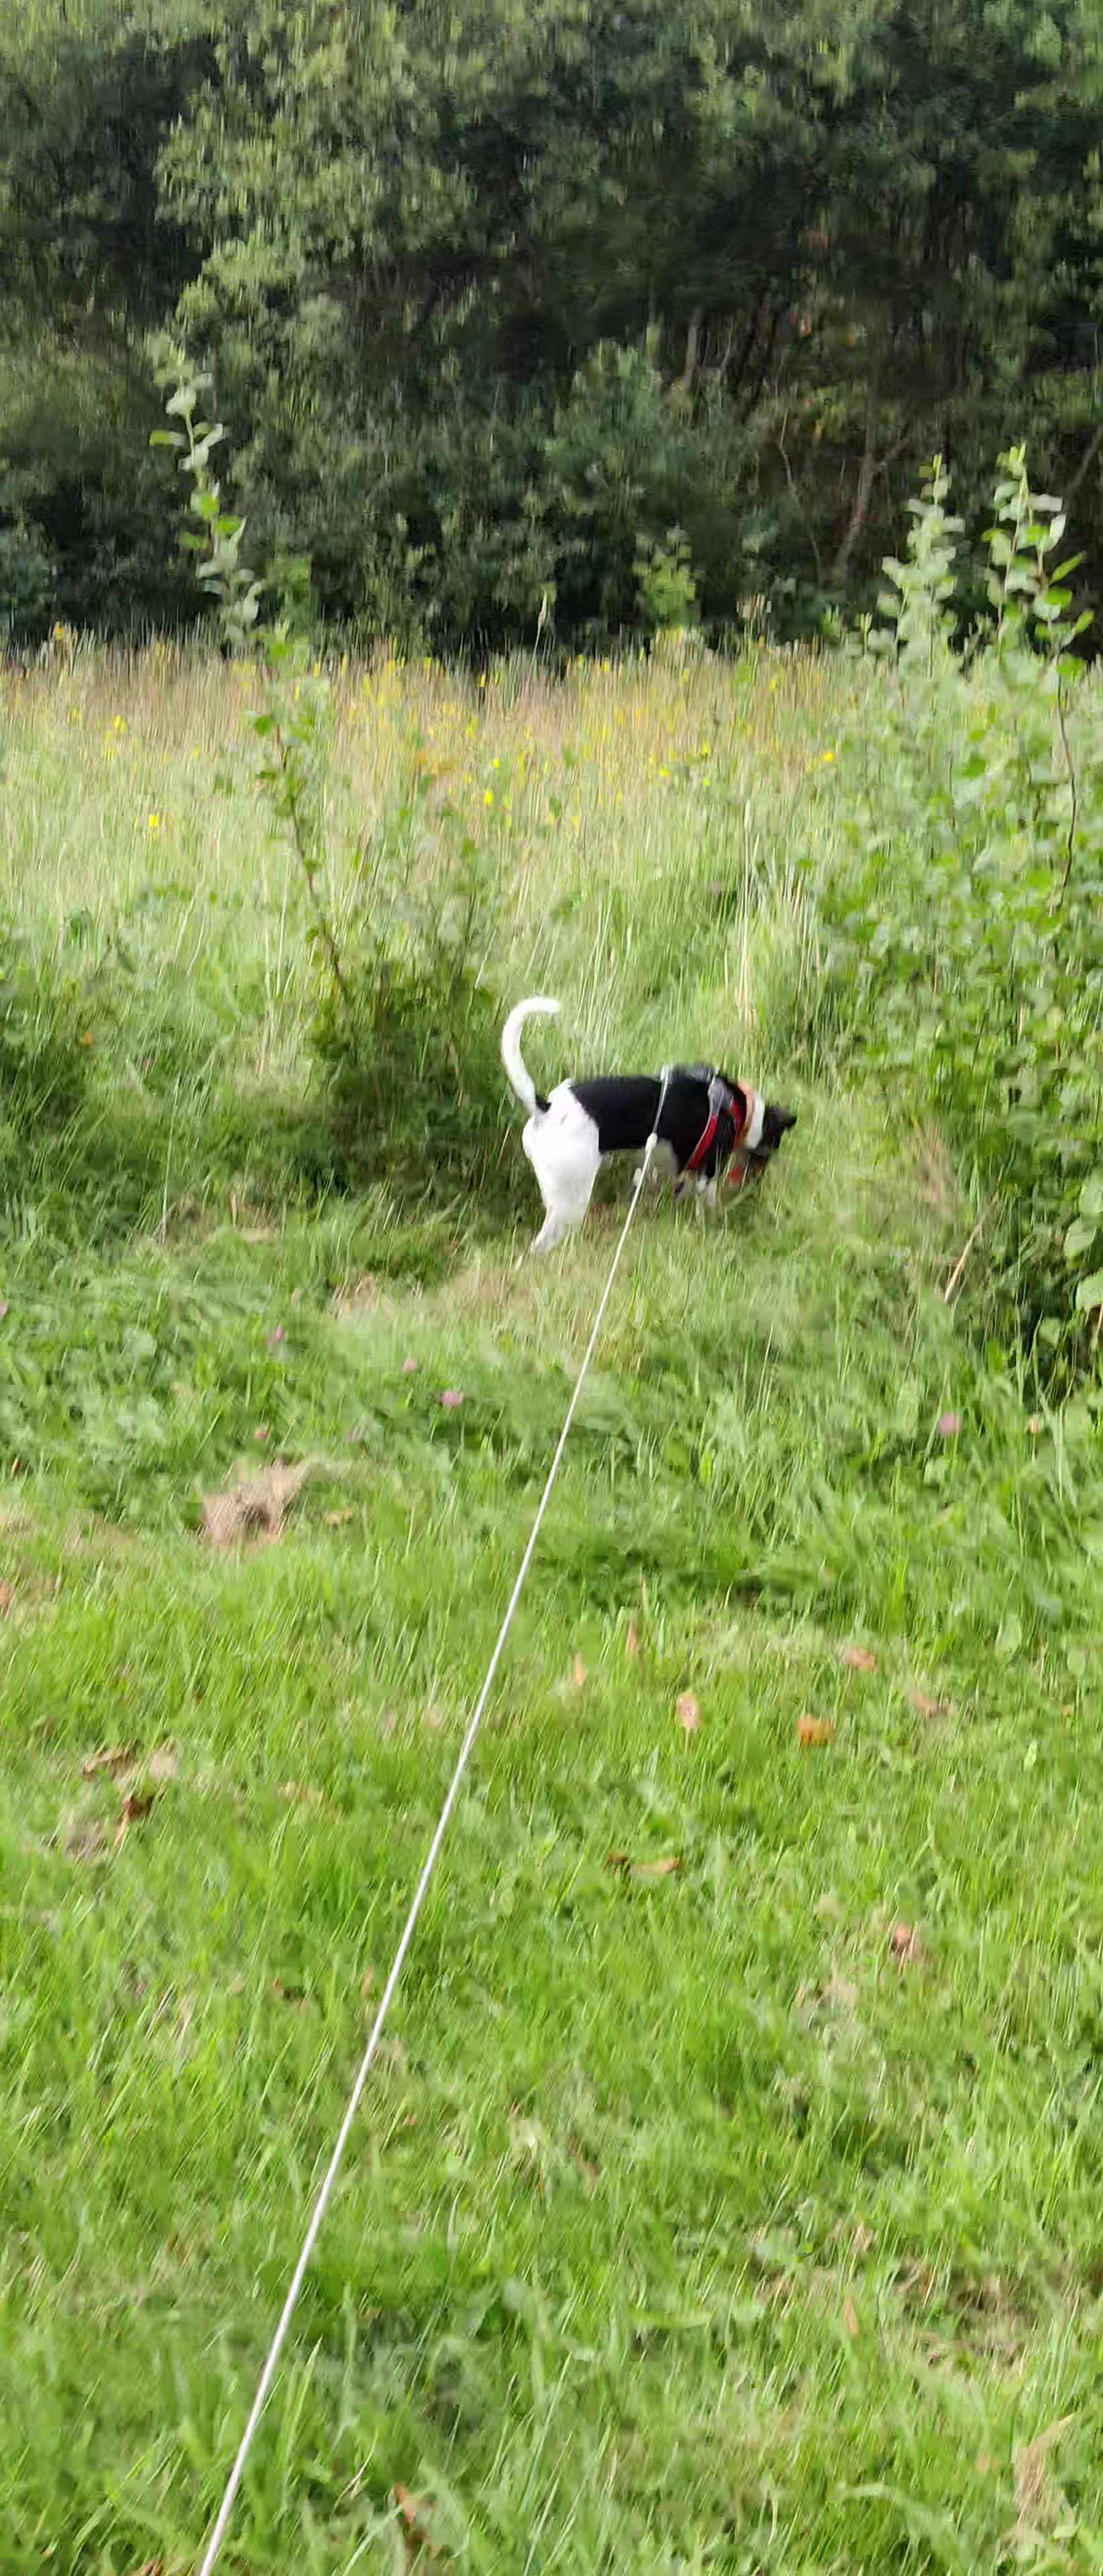Dog: (495, 987, 805, 1268)
